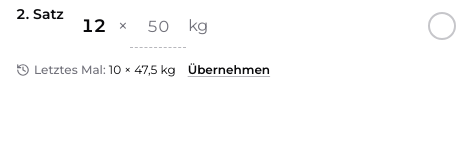
Scenario: ExerciseSetRow Übernehmen only while it can fill something › fills only the empty field, never the populated one, and then goes away
This screenshot has width=473, height=160.
Click the button with aria-label "Übernehmen für Satz 2:".
click(229, 70)  # box [184,48,274,92]
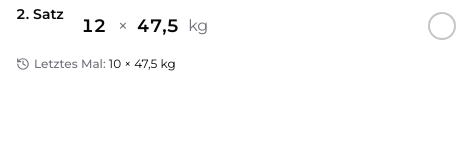
Check: the 1st field named "Wiederholungen für Satz 2" holds "12", box [72,4,116,48]
Check: the 2nd field named "Gewicht für Satz 2 in kg" holds "47,5", box [130,4,186,48]
